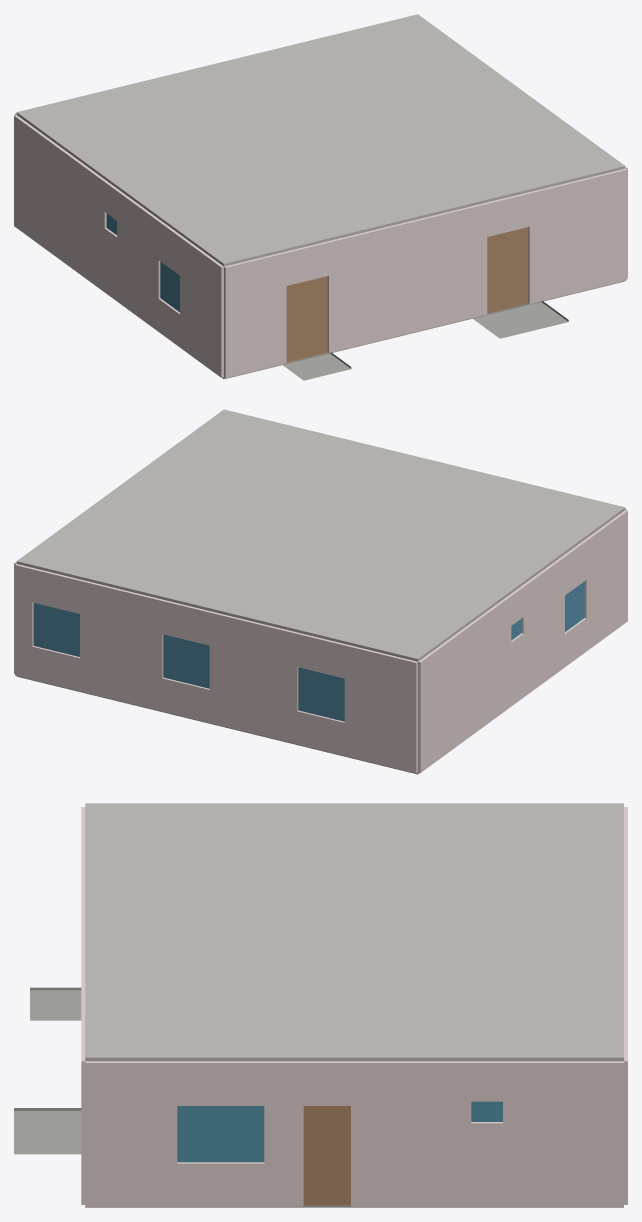
The model's file is 3BHK_03.glb.
3 views of the same model, one above another, from view 1: azimuth 30°, elevation 25°; view 2: azimuth 150°, elevation 25°; view 3: azimuth 270°, elevation 25° (orthographic). The views are drawn at different scales.
Parts seen in each view (by area): view 1: Roof, Wall_W003, Wall_W001, Wall_W015, Wall_W002, Wall_W007, Door_D_BAL_02, Door_D_BAL_01, Balcony_BAL_MAIN, Balcony_BAL_DRY, Window_WN02, Floor; view 2: Roof, Wall_W027, Wall_W028, Wall_W029, Wall_W015, Wall_W002, Wall_W007, Window_WN05, Window_WN04, Window_WN03, Window_WN02, Floor; view 3: Roof, Wall_W005, Wall_W024, Wall_W026, Wall_W013, Window_WN01, Door_D_ENTRY, Balcony_BAL_MAIN, Balcony_BAL_DRY, Wall_W003, Floor, Wall_W029 (+1 smaller).
Boxes of the visible parts, x1,y1,x2,y2 form: Roof: (16,14,625,266); Wall_W003: (389,169,626,337); Wall_W001: (224,226,389,378); Wall_W015: (14,115,96,284); Wall_W002: (144,210,223,377); Wall_W007: (95,174,146,321); Door_D_BAL_02: (286,276,327,361); Door_D_BAL_01: (487,227,528,313); Balcony_BAL_MAIN: (473,301,568,338); Balcony_BAL_DRY: (283,352,351,380); Window_WN02: (160,261,179,312); Floor: (222,281,625,379); Roof: (16,409,625,661); Wall_W027: (276,627,417,773); Wall_W028: (143,595,276,738); Wall_W029: (15,564,144,706); Wall_W015: (418,603,501,772); Wall_W002: (549,510,627,676); Wall_W007: (499,566,551,713); Window_WN05: (298,667,344,721); Window_WN04: (163,634,209,688); Window_WN03: (33,603,79,656); Window_WN02: (565,581,584,631); Floor: (16,676,419,774); Roof: (85,803,623,1061); Wall_W005: (85,1061,284,1206); Wall_W024: (414,1061,521,1206); Wall_W026: (521,1061,623,1206); Wall_W013: (284,1061,413,1206); Window_WN01: (177,1106,264,1162); Door_D_ENTRY: (303,1106,350,1205); Balcony_BAL_MAIN: (14,1108,81,1154); Balcony_BAL_DRY: (30,987,81,1020); Wall_W003: (81,911,85,1204); Floor: (85,1205,623,1207); Wall_W029: (624,980,627,1204).
Bounding box in the file's own units: 11.73 × 3.18 × 11.81.
